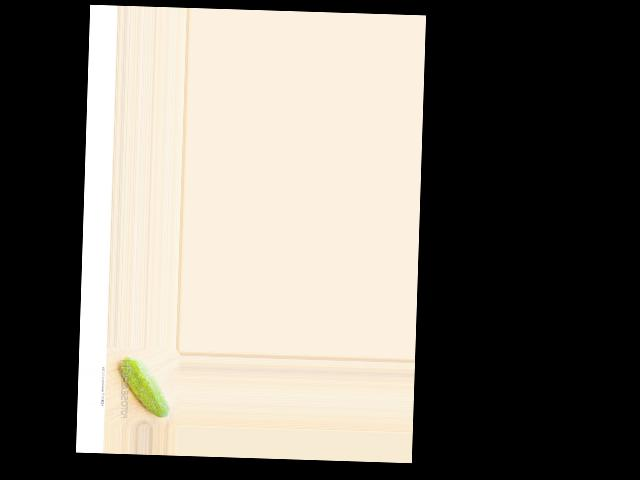cucumber: (118, 355, 171, 417)
